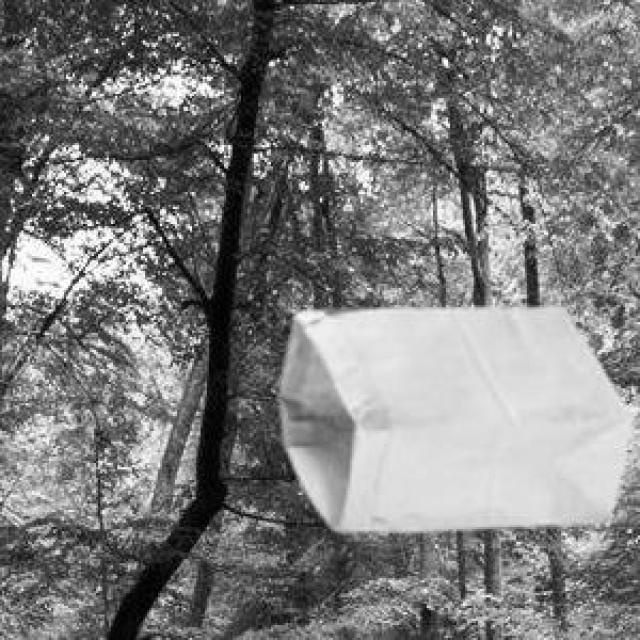paper: (277, 303, 627, 527)
